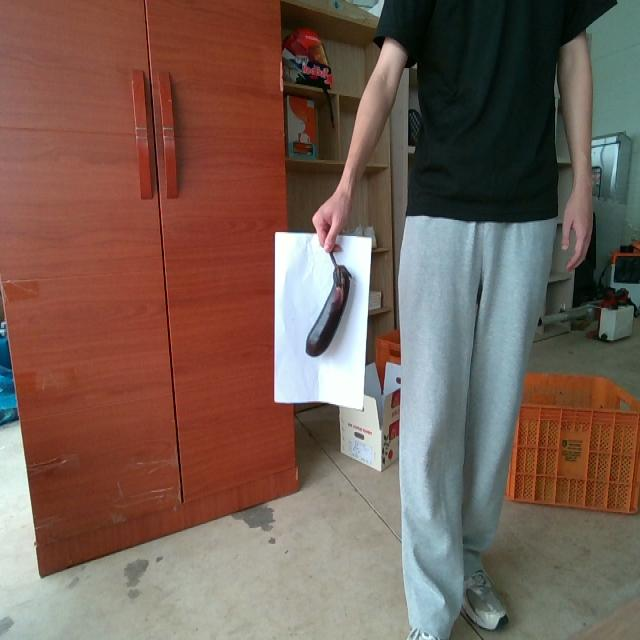Egg plant: (306, 252, 350, 356)
